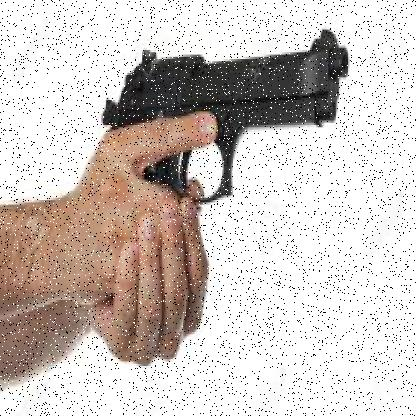pistol: (103, 20, 348, 204)
